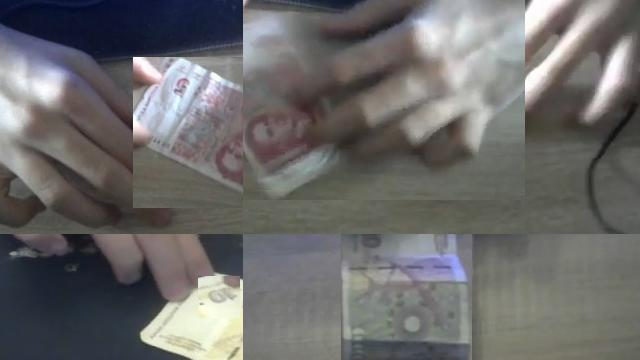10leva: (341, 234, 472, 360), (198, 277, 240, 318)
5leva: (243, 0, 525, 200), (133, 57, 243, 198)
